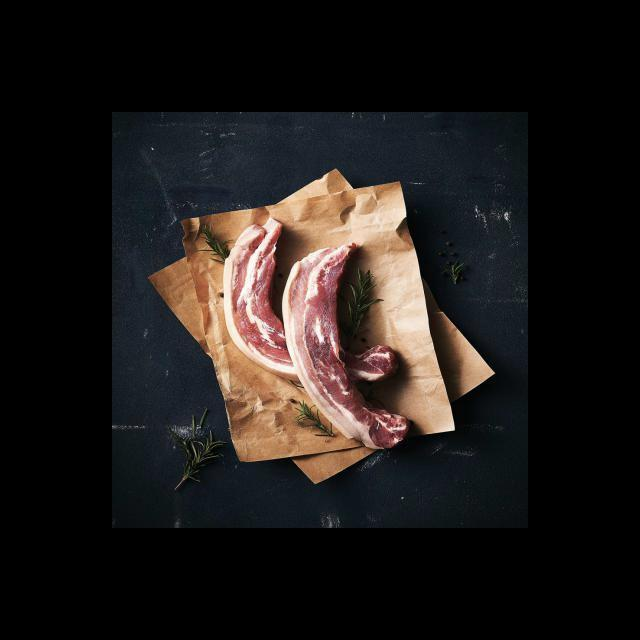pork: (230, 223, 423, 452)
